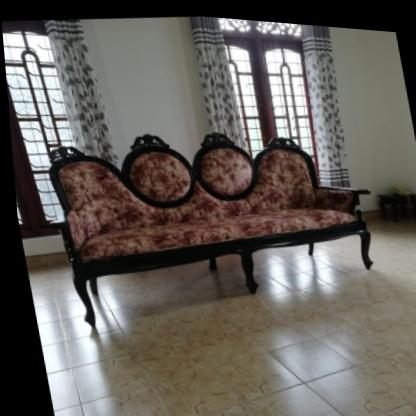Ceramic floor: (35, 273, 416, 416)
Sofa: (30, 100, 391, 348)
